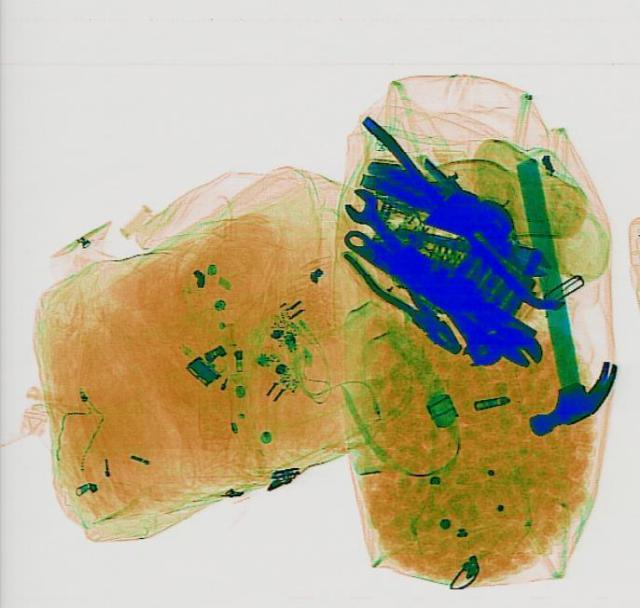Pliers: (340, 224, 480, 364)
Wrench: (331, 218, 551, 372), (334, 182, 468, 304), (474, 218, 556, 281)
